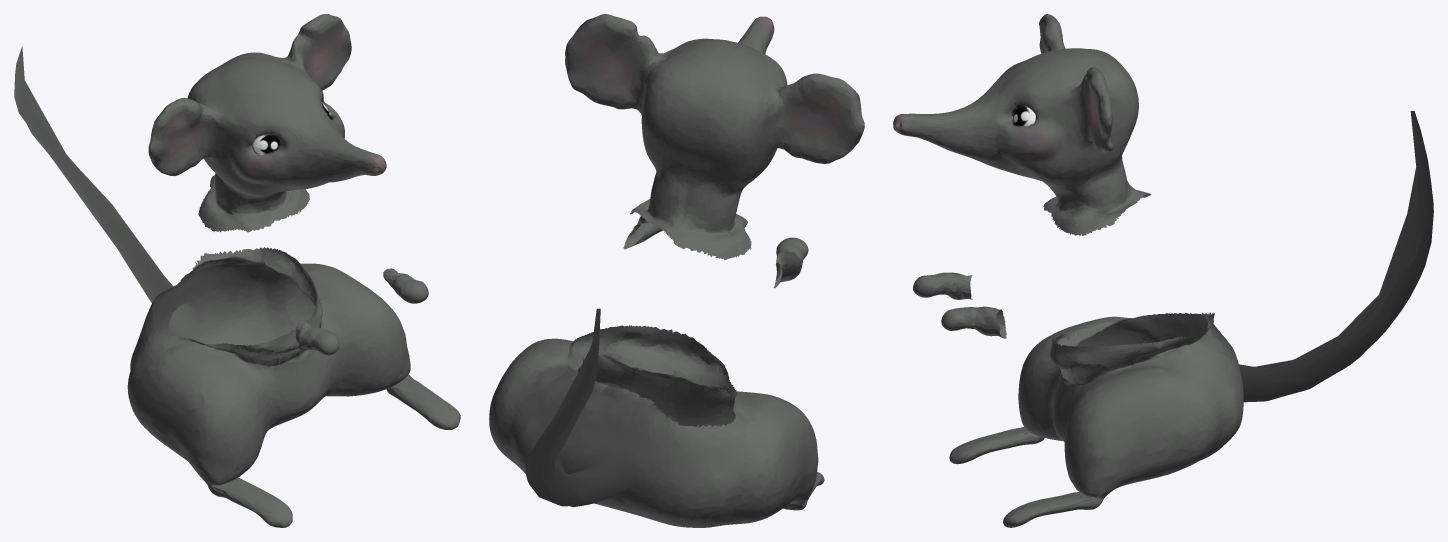
Rendered from rat2.fbx.
3 renders of one model, left to right at view 1: azimuth 30°, elevation 25°; view 2: azimuth 150°, elevation 25°; view 3: azimuth 270°, elevation 25°, orthographic. The views are drawn at different scales.
Visible parts, largest first — view 1: node_id4; view 2: node_id4; view 3: node_id4.
Boxes of the visible parts, x1,y1,x2,y2 form: node_id4: [14, 14, 460, 527]; node_id4: [489, 14, 864, 527]; node_id4: [893, 14, 1433, 527].
Size of the model in its own units: 0.3955 by 0.5538 by 0.6107.
Materials: 1 (1 with a texture image).
